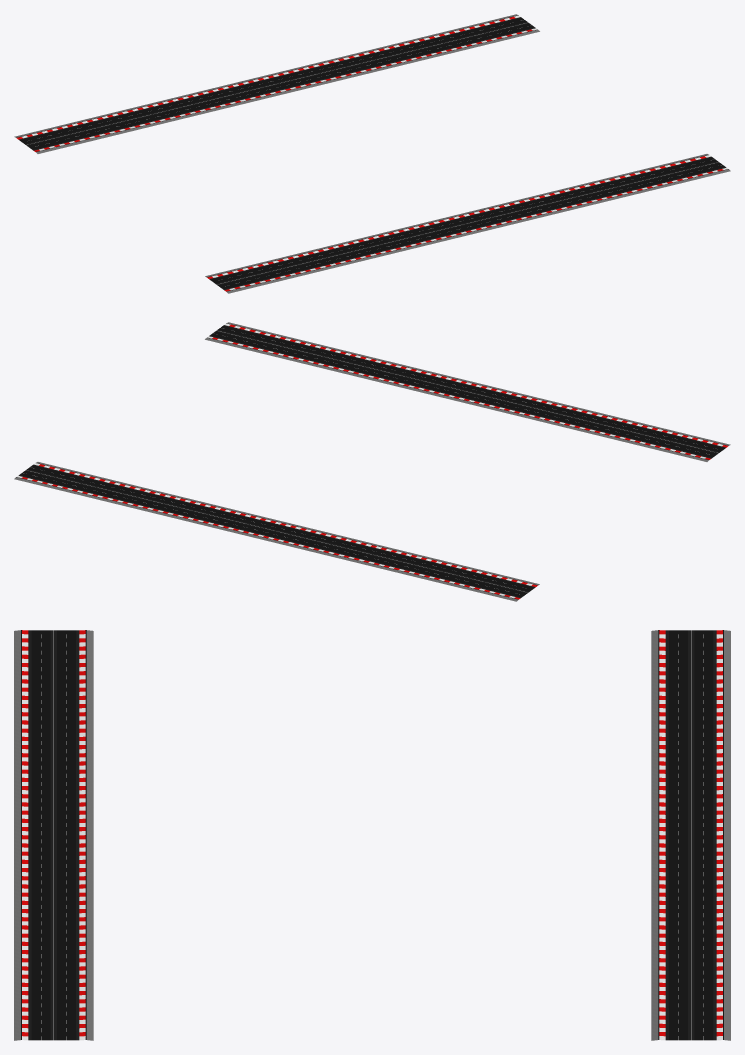
Rendered from S0.1f6h0-2-lines.glb.
The picture shows the model from 3 angles, top to bottom: view 1: azimuth 30°, elevation 25°; view 2: azimuth 150°, elevation 25°; view 3: azimuth 270°, elevation 25°; orthographic projection. The views are drawn at different scales.
Visible parts, largest first — view 1: Grid.004, Grid.003; view 2: Grid.003, Grid.004; view 3: Grid.004, Grid.003.
Part boxes in pixels (x1,y1,x2,y2): Grid.004: (205,154,730,293); Grid.003: (14,14,539,153); Grid.003: (14,462,539,601); Grid.004: (205,322,730,461); Grid.004: (14,630,93,1040); Grid.003: (651,630,730,1040).
Bounding box in the file's own units: 304 × 0.3104 × 225.
